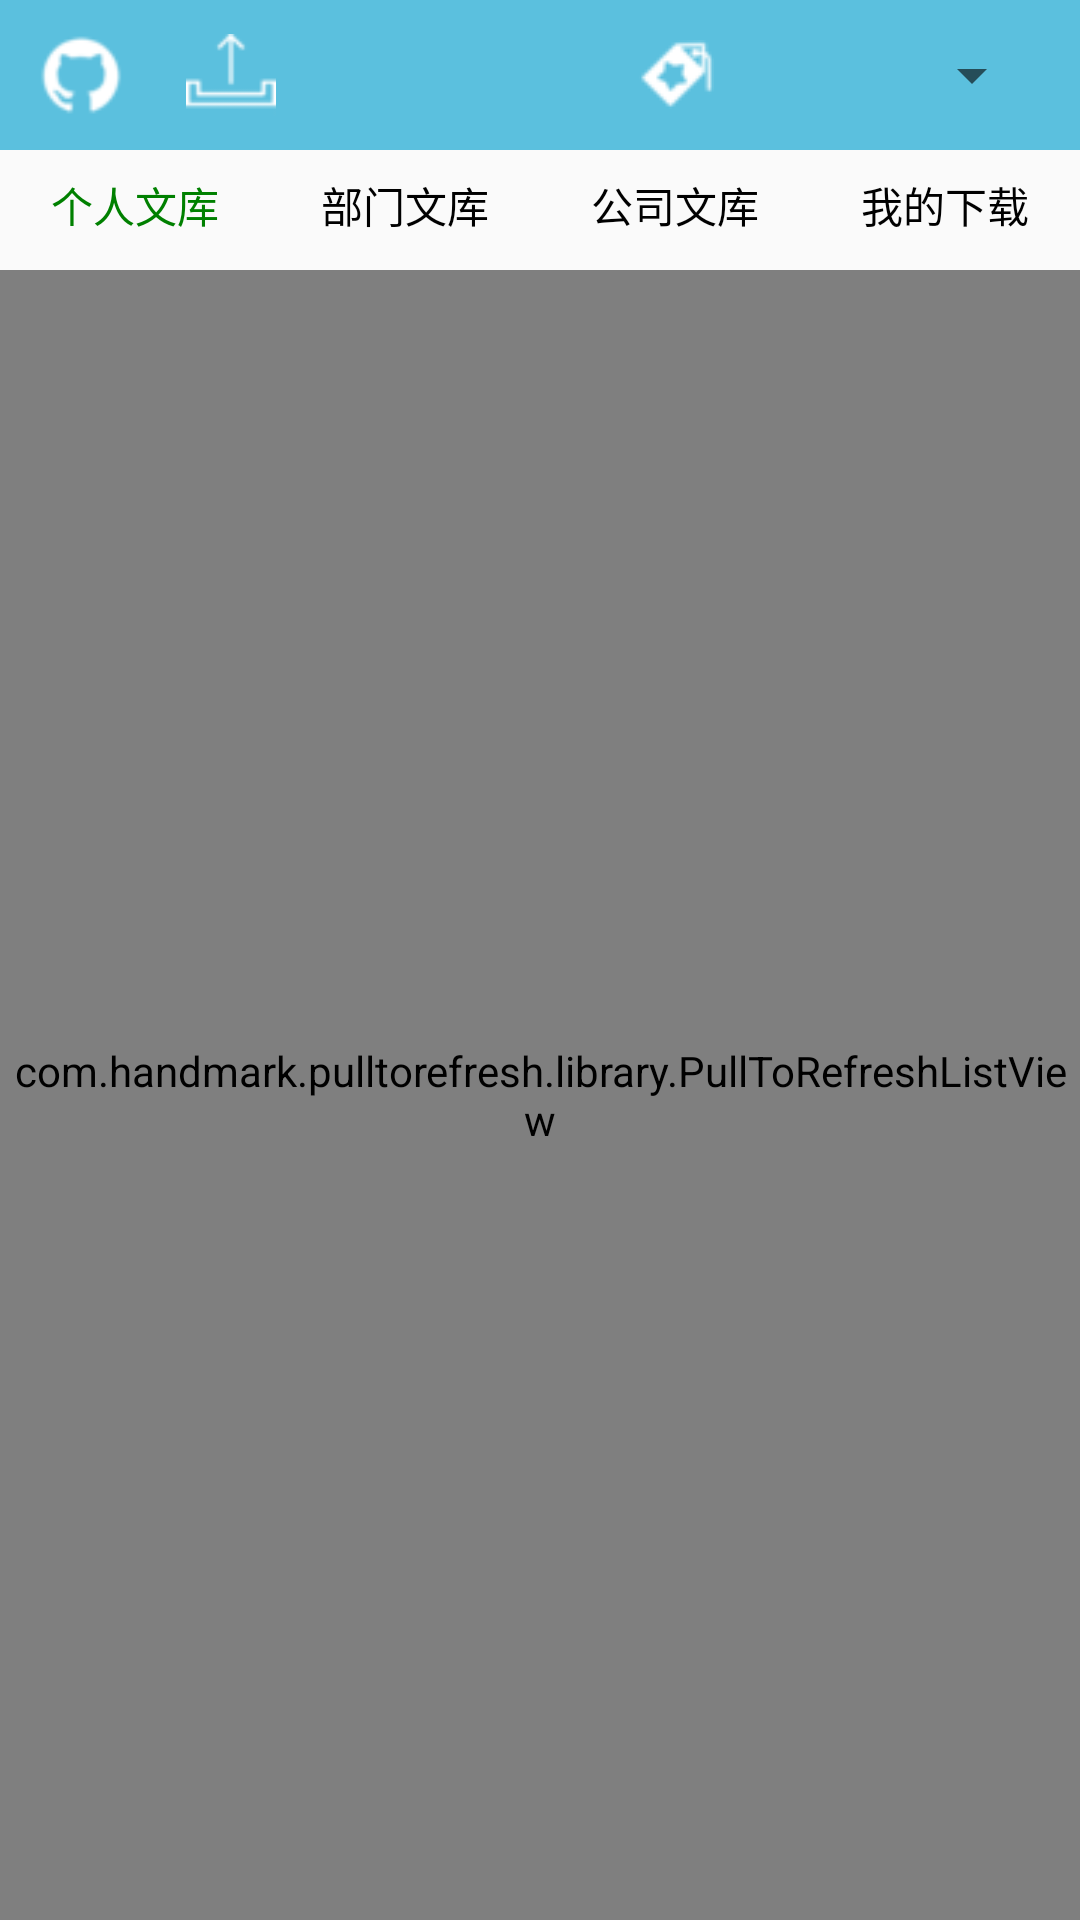

Point at icon controls on the screen. Image size 1080*1920, points as (x,y).
label: (676,74)
upload: (231,71)
